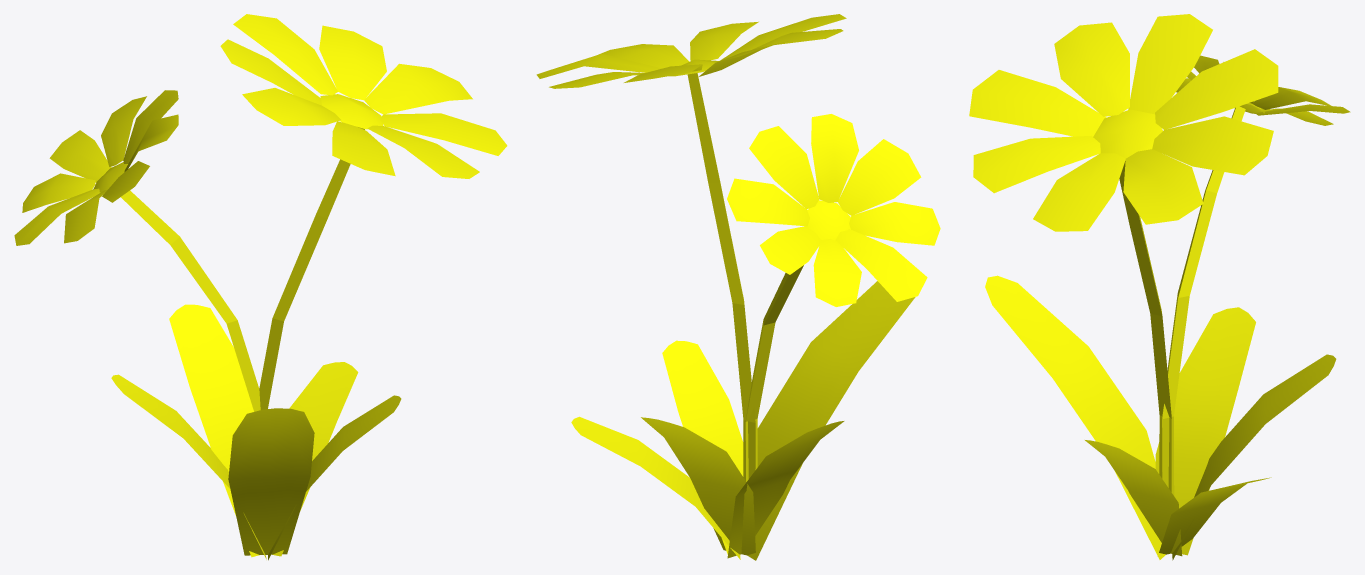
The model's file is FlowerStalk_2.fbx.
The picture shows the model from 3 angles, left to right: view 1: azimuth 30°, elevation 25°; view 2: azimuth 150°, elevation 25°; view 3: azimuth 270°, elevation 25°; orthographic projection. The views are drawn at different scales.
Parts seen in each view (by area): view 1: FlowerStalk_2; view 2: FlowerStalk_2; view 3: FlowerStalk_2.
Part boxes in pixels (left/top/right/bottom): FlowerStalk_2: left=14, top=14, right=507, bottom=560; FlowerStalk_2: left=536, top=14, right=940, bottom=560; FlowerStalk_2: left=969, top=14, right=1350, bottom=560.
Size of the model in its own units: 186 by 223 by 148.
